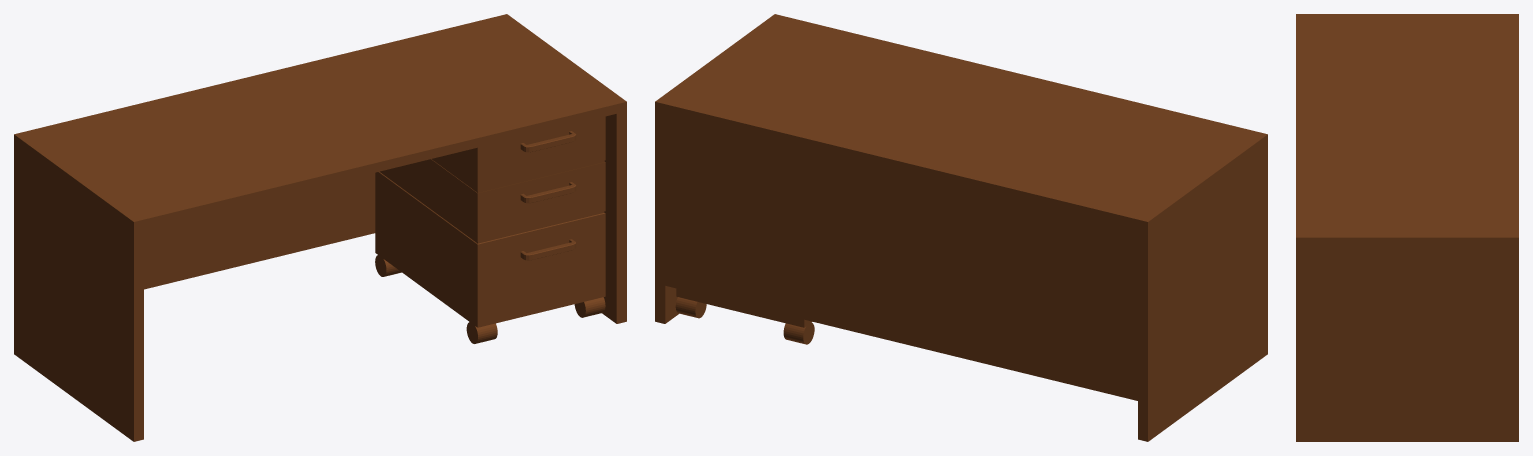
Rendered from OfficeTable.fbx.
3 renders of one model, left to right at view 1: azimuth 30°, elevation 25°; view 2: azimuth 150°, elevation 25°; view 3: azimuth 270°, elevation 25°, orthographic. The views are drawn at different scales.
Visible parts, largest first — view 1: Cube; view 2: Cube; view 3: Cube.
Boxes of the visible parts, <box> form: Cube: <box>14,14,626,441</box>; Cube: <box>655,14,1267,441</box>; Cube: <box>1296,14,1518,441</box>.
Bounding box in the file's own units: 150 × 64.05 × 63.28.
